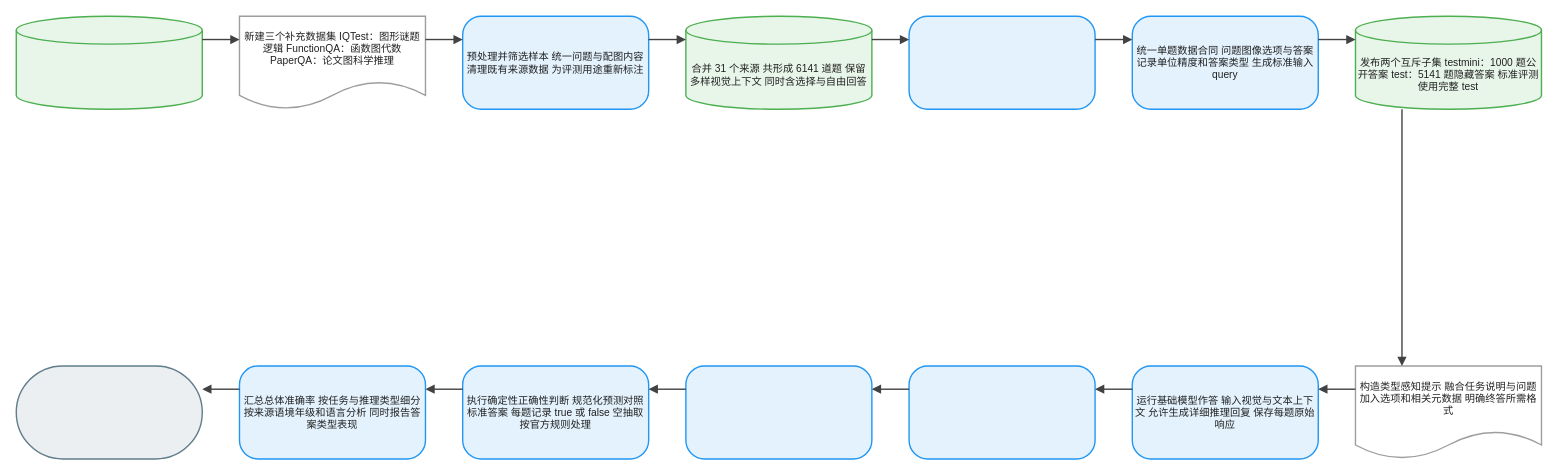
This 1559x476 diagram has some shape labels left out. Here are the shapes that lost their labels. From the top down, the centre of each, then its label:
At (x=109, y=62): "汇集 28 个既有数据集 9 个数学问答数据集 19 个通用视觉问答集 覆盖多类视觉数学问题".
At (x=1001, y=62): "添加细粒度元数据 五类任务与七类推理 标注来源类别与图像语境 记录年级语言及技能".
At (x=109, y=412): "发布 MathVista 结果 形成统一模型排行榜 对比模型与人类表现 分析视觉感知和数学推理".
At (x=778, y=412): "按答案合同规范化 选择题映射字母或选项 整数与浮点按精度转换 保留列表和文本格式".
At (x=1001, y=412): "抽取短格式最终答案 先处理直接数值与选项 一般情形使用 GPT-4 抽取 200 题预研准确率超 99.5%".
